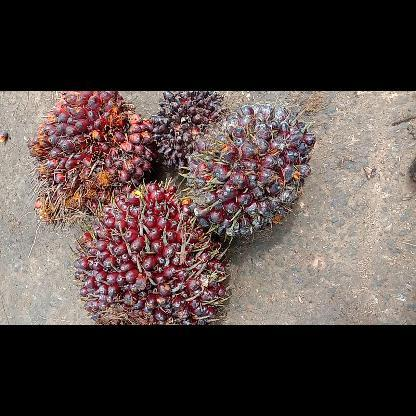Kurang masak: (71, 182, 232, 324), (179, 102, 317, 246)
TBS abnormal: (152, 91, 226, 171)
TBS masak: (26, 91, 156, 230)
